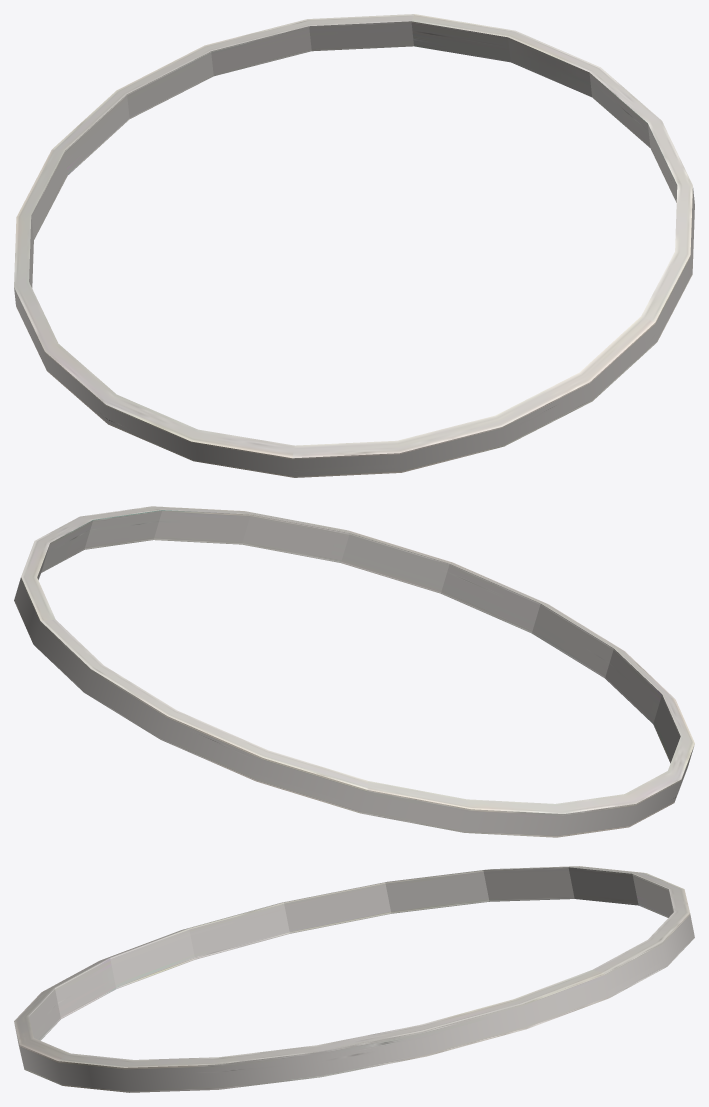
The model's file is small_InnerRing001CelestialPrism_lowPoly.glb.
3 views of the same model, one above another, from view 1: azimuth 30°, elevation 25°; view 2: azimuth 150°, elevation 25°; view 3: azimuth 270°, elevation 25° (orthographic).
Visible parts, largest first — view 1: polySurface12; view 2: polySurface12; view 3: polySurface12.
Part boxes in pixels (<box>): polySurface12: <box>14,14,694,477</box>; polySurface12: <box>14,506,694,837</box>; polySurface12: <box>14,866,694,1092</box>.
Bounding box in the file's own units: 0.5777 × 0.1808 × 0.5771.
Materials: 1 (1 with a texture image).
